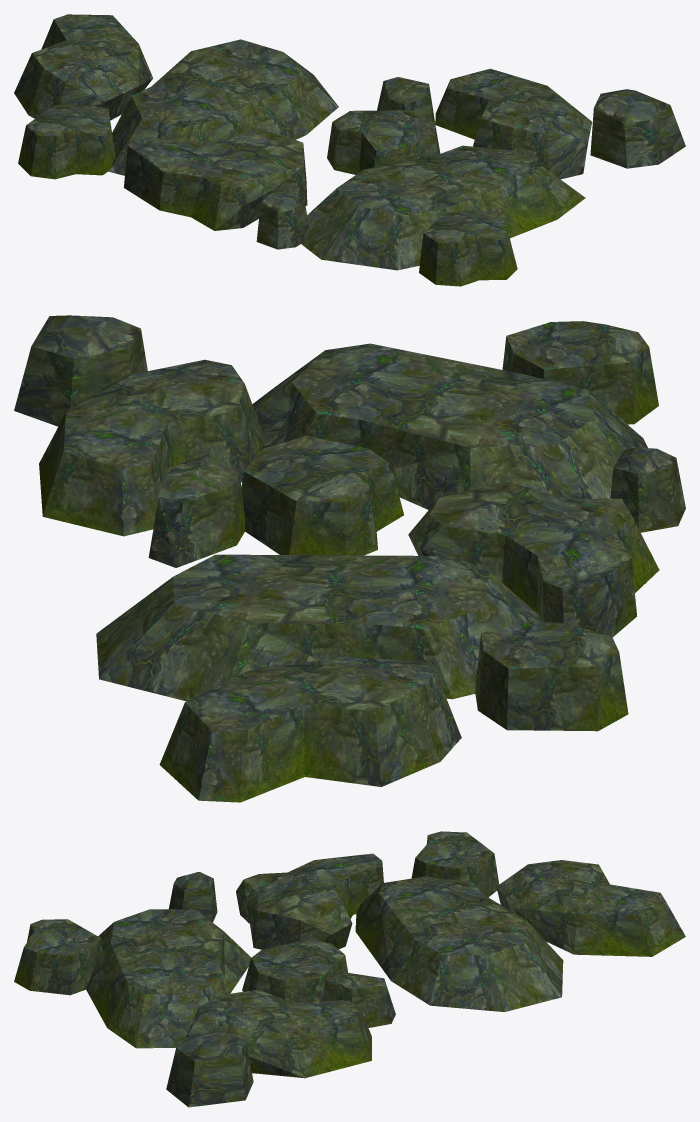
The model's file is 10104_Stone07.FBX.
The picture shows the model from 3 angles, top to bottom: view 1: azimuth 30°, elevation 25°; view 2: azimuth 150°, elevation 25°; view 3: azimuth 270°, elevation 25°; orthographic projection. The views are drawn at different scales.
Visible parts, largest first — view 1: objDN_A_Stepstone01; view 2: objDN_A_Stepstone01; view 3: objDN_A_Stepstone01.
Boxes of the visible parts, left/top/right/bottom form: objDN_A_Stepstone01: left=14, top=14, right=685, bottom=286; objDN_A_Stepstone01: left=14, top=315, right=685, bottom=802; objDN_A_Stepstone01: left=14, top=831, right=685, bottom=1107.
Bounding box in the file's own units: 782 × 73.8 × 918.
